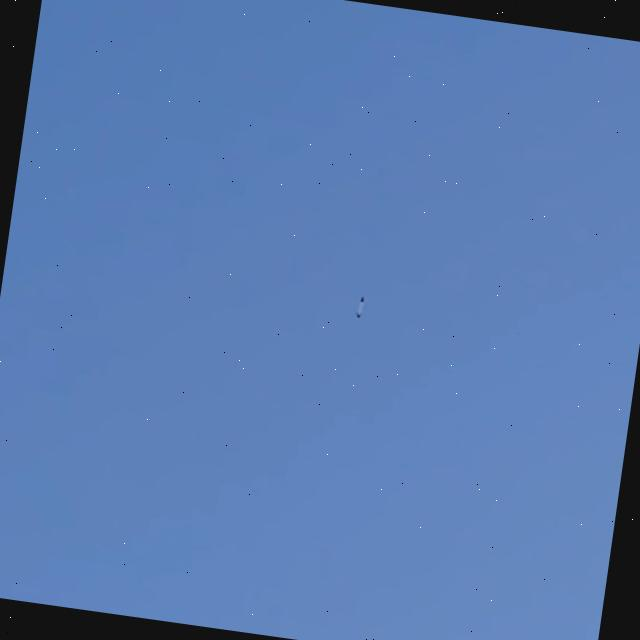rocket: (355, 297, 365, 321)
